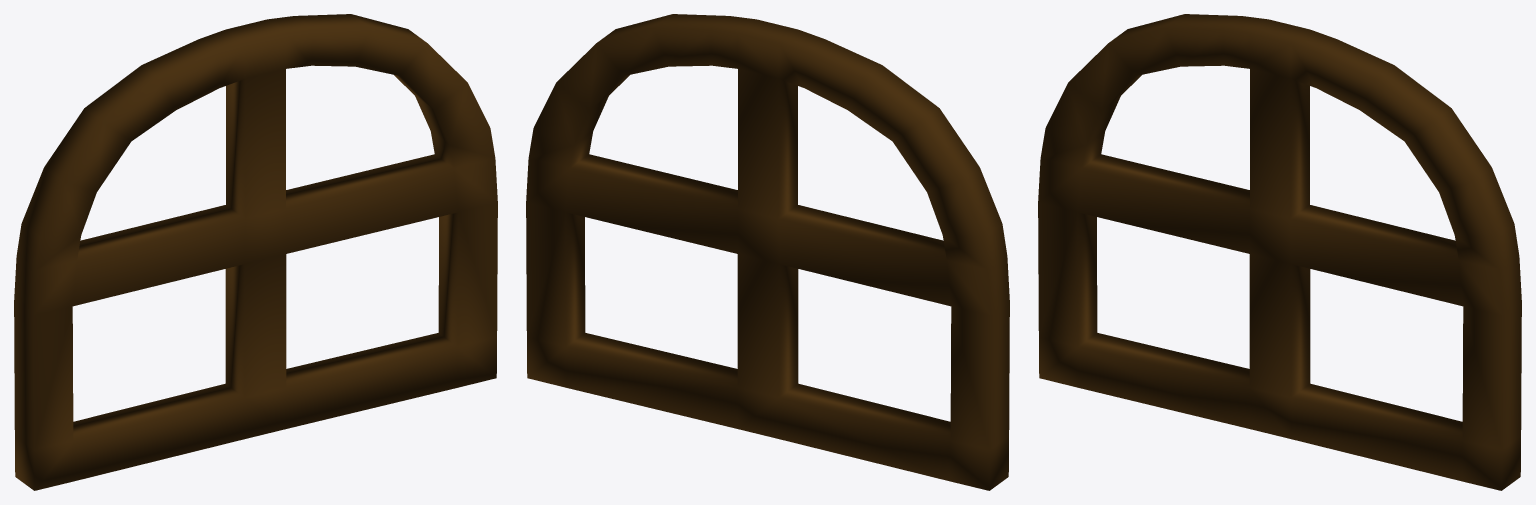
File: KHIP_Window.FBX
The picture shows the model from 3 angles, left to right: view 1: azimuth 30°, elevation 25°; view 2: azimuth 150°, elevation 25°; view 3: azimuth 330°, elevation 25°; orthographic projection.
Visible parts, largest first — view 1: KHIP_Window; view 2: KHIP_Window; view 3: KHIP_Window.
Part boxes in pixels (x1=…): KHIP_Window: x1=14, y1=14, x2=497, y2=490; KHIP_Window: x1=526, y1=14, x2=1009, y2=490; KHIP_Window: x1=1038, y1=14, x2=1521, y2=490.
Bounding box in the file's own units: 75.09 × 61.17 × 5.39.
